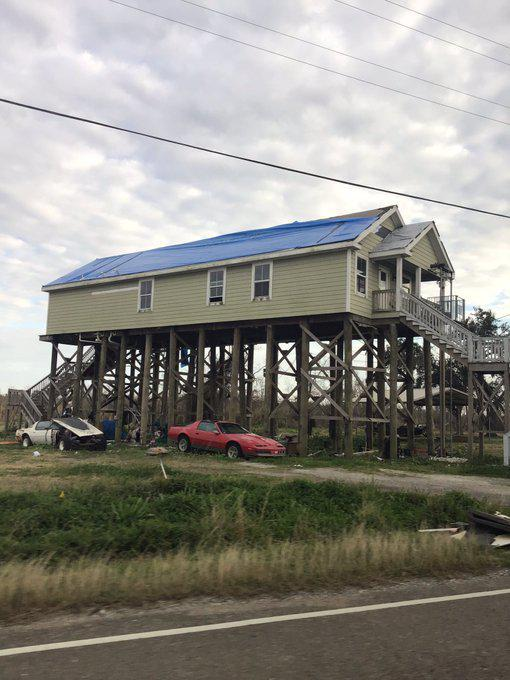minor: (23, 196, 510, 448)
